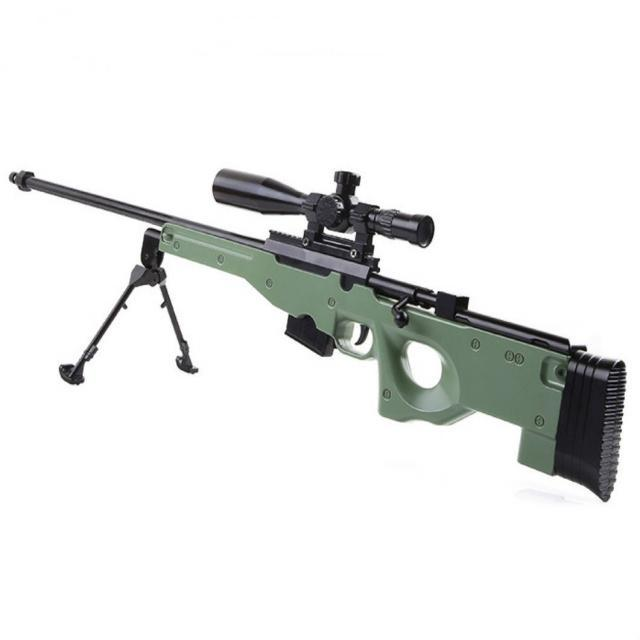sniper rifle: (1, 128, 626, 511)
